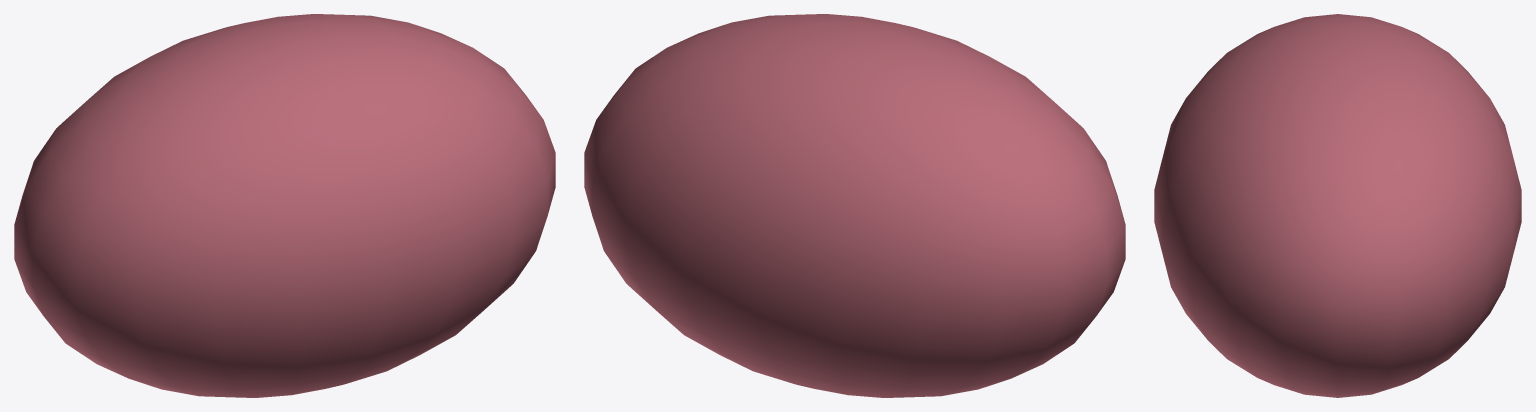
File: liver.glb
The picture shows the model from 3 angles, left to right: view 1: azimuth 30°, elevation 25°; view 2: azimuth 150°, elevation 25°; view 3: azimuth 270°, elevation 25°; orthographic projection. The views are drawn at different scales.
Visible parts, largest first — view 1: organ_liver; view 2: organ_liver; view 3: organ_liver.
Boxes of the visible parts, left/top/right/bottom form: organ_liver: left=14, top=14, right=555, bottom=397; organ_liver: left=584, top=14, right=1125, bottom=397; organ_liver: left=1154, top=14, right=1521, bottom=397.
Bounding box in the file's own units: 0.189 × 0.12 × 0.1293.
